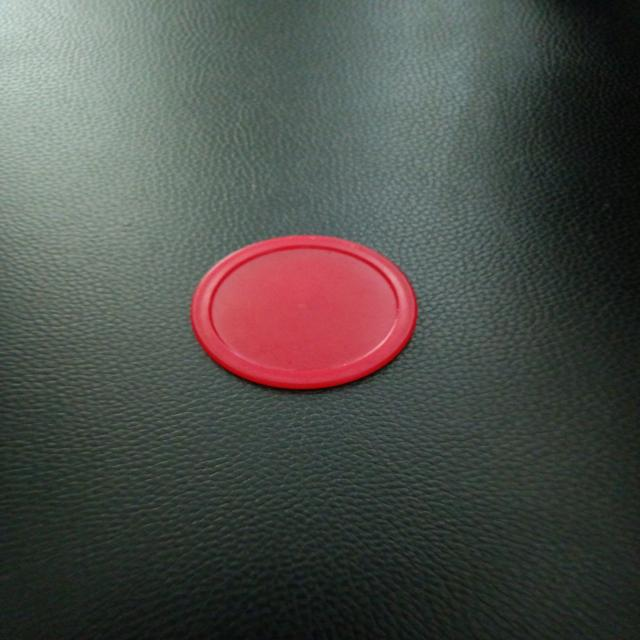chip: (188, 232, 422, 390)
